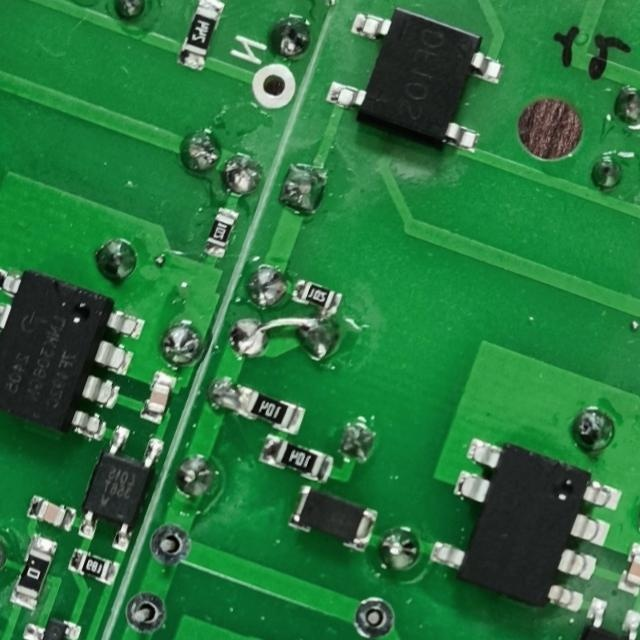chip-capacitor: (135, 368, 177, 427), (21, 491, 77, 533), (613, 539, 640, 598)
chip-resistor: (3, 530, 61, 614), (255, 430, 336, 486), (172, 0, 227, 74), (231, 386, 306, 438), (60, 545, 121, 590), (197, 201, 241, 263), (287, 274, 345, 318)
diode: (282, 480, 380, 556)
ic: (422, 428, 626, 624), (318, 0, 514, 160), (0, 255, 149, 448), (68, 418, 168, 555)
transistor: (12, 605, 84, 640)
